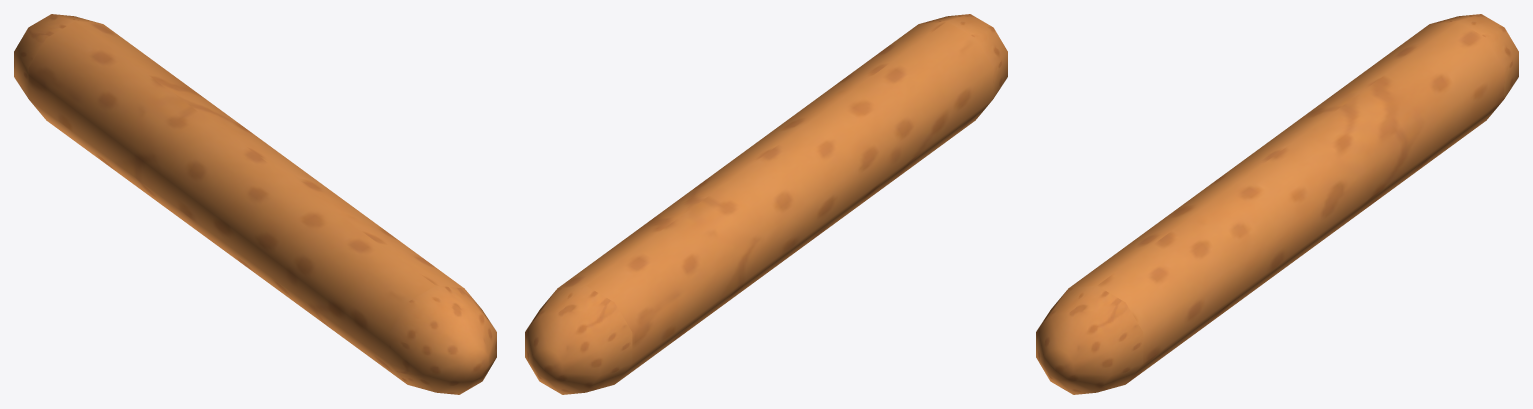
Rendered from DoubleCooked_FricadelleRaw.fbx.
3 views of the same model, side by side, from view 1: azimuth 30°, elevation 25°; view 2: azimuth 150°, elevation 25°; view 3: azimuth 330°, elevation 25° (orthographic).
Parts seen in each view (by area): view 1: DoubleCooked_FricadelleRaw; view 2: DoubleCooked_FricadelleRaw; view 3: DoubleCooked_FricadelleRaw.
Boxes of the visible parts, x1,y1,x2,y2 form: DoubleCooked_FricadelleRaw: (14,14,496,394); DoubleCooked_FricadelleRaw: (525,14,1007,394); DoubleCooked_FricadelleRaw: (1036,14,1518,394).
Bounding box in the file's own units: 1.99 × 2.09 × 16.41.
Materials: 1 (1 with a texture image).
